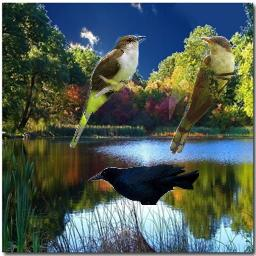Crow: (88, 164, 199, 205)
Cuckoo: (69, 34, 146, 148), (169, 36, 235, 156)
